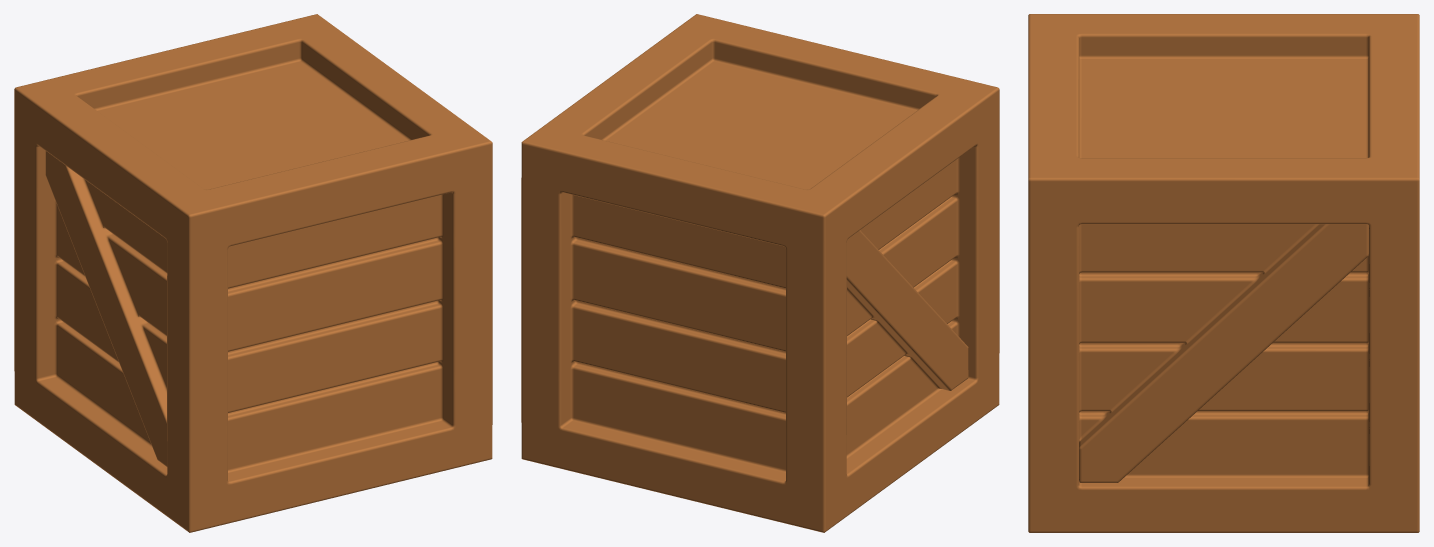
3 views of the same model, side by side, from view 1: azimuth 30°, elevation 25°; view 2: azimuth 150°, elevation 25°; view 3: azimuth 270°, elevation 25° (orthographic). The views are drawn at different scales.
Visible parts, largest first — view 1: Box.004; view 2: Box.004; view 3: Box.004.
Boxes of the visible parts, bbox=[...] form: Box.004: bbox=[14, 14, 492, 532]; Box.004: bbox=[521, 14, 999, 532]; Box.004: bbox=[1028, 14, 1419, 532].
Bounding box in the file's own units: 60.15 × 60.15 × 60.15.
